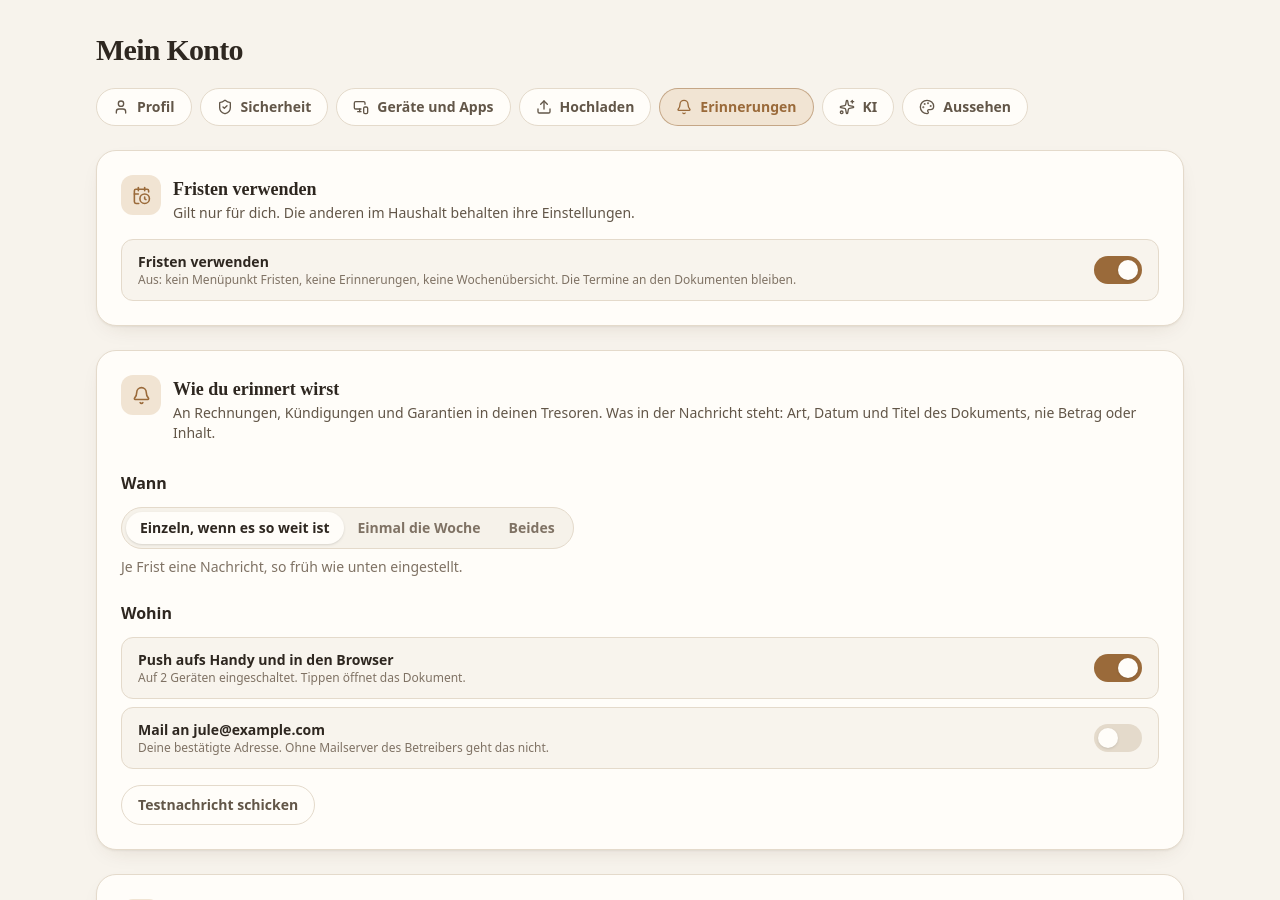
deadlines on or off for the person › shows a refusal of the server and stays as it is
Click the switch named "Fristen verwenden" at [1118, 270], box [1094,256,1142,284]
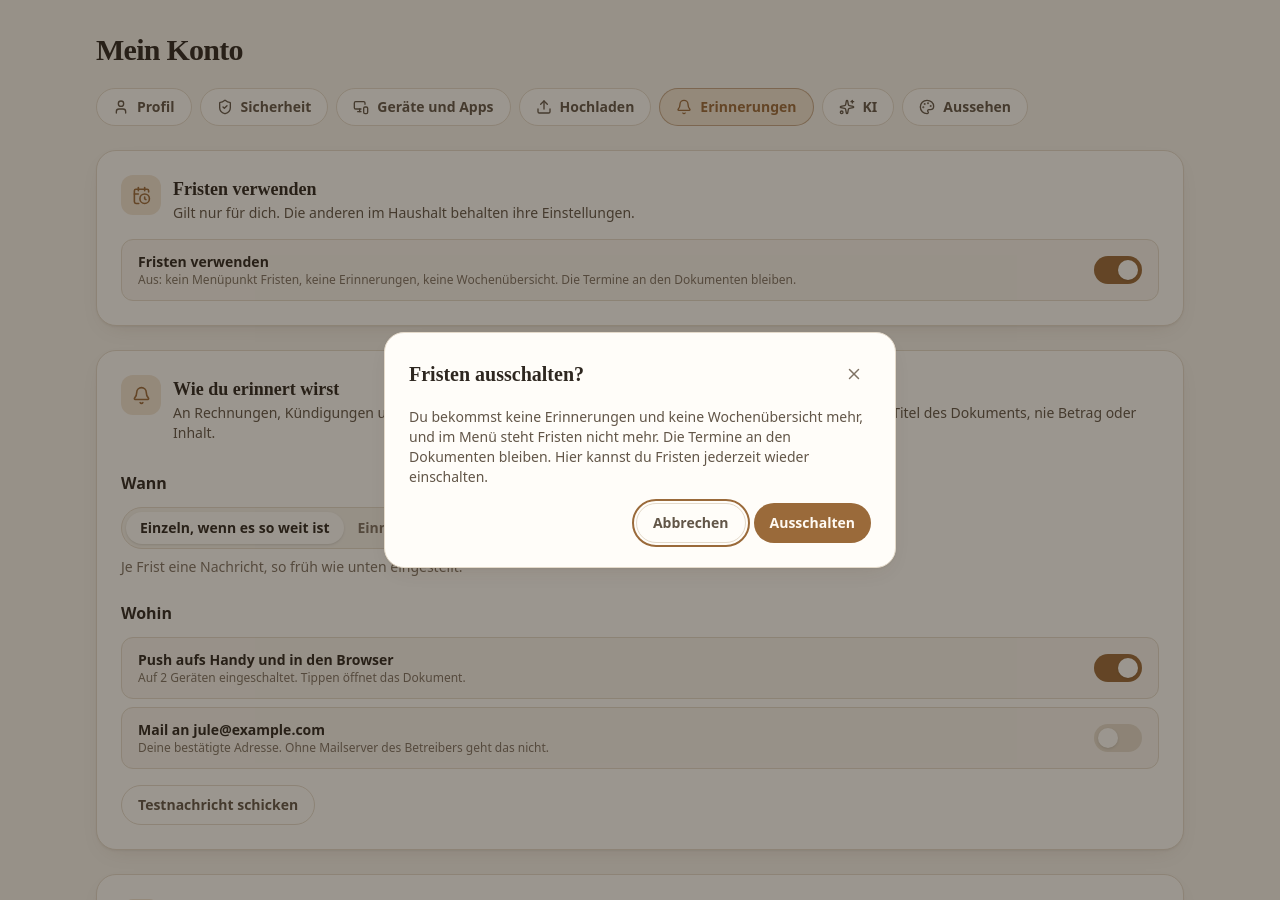
Check: the dialog is shown, box [384,332,896,568]
Check: the button "Ausschalten" is shown
Click the button "Ausschalten" at [812, 523], box [754,503,871,543]
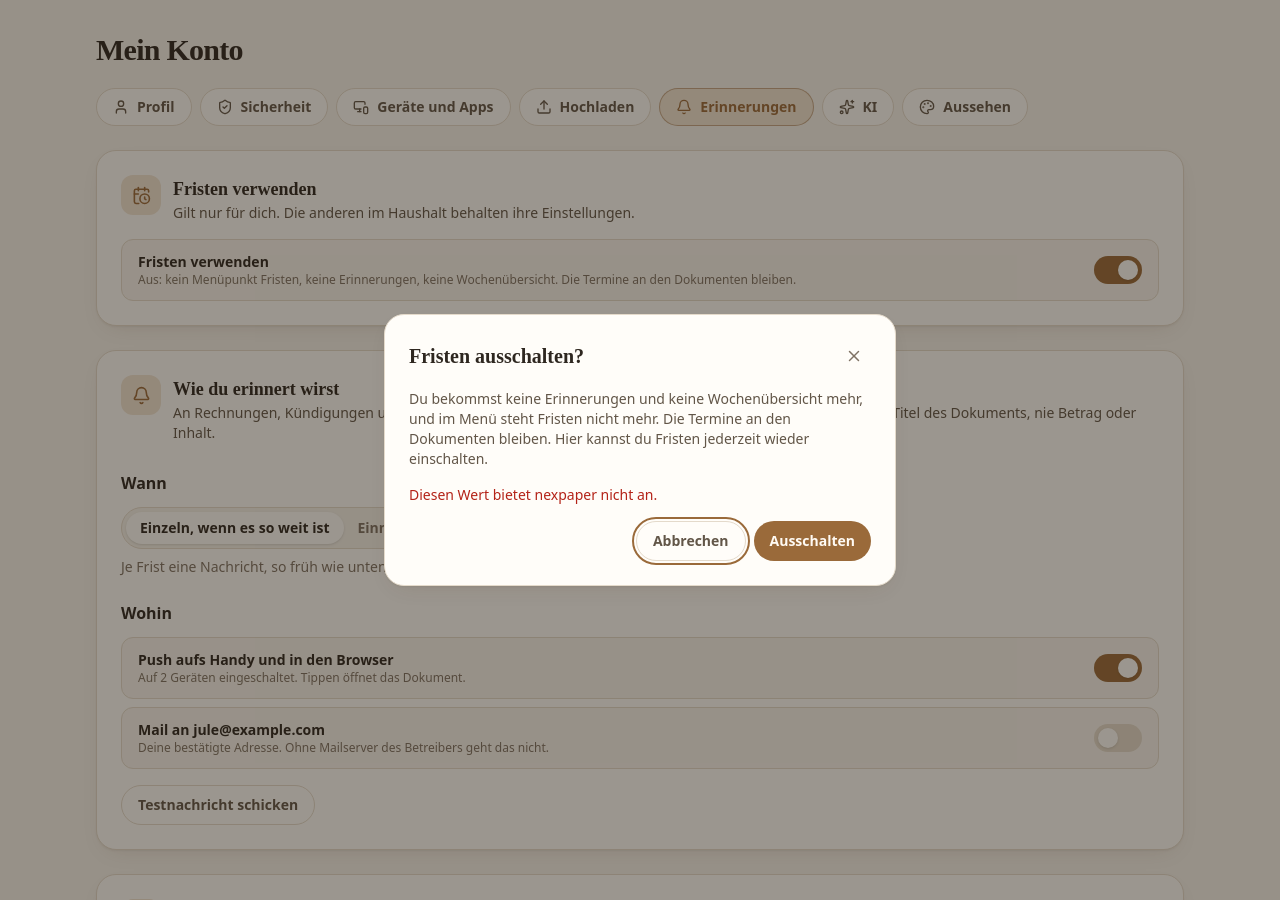
Check: the dialog shows "Diesen Wert bietet nexpaper nicht an.", box [409,485,657,504]
